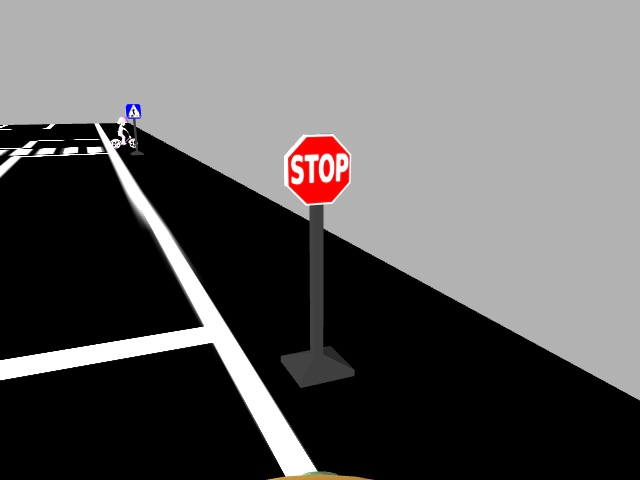Stop: (278, 131, 354, 209)
